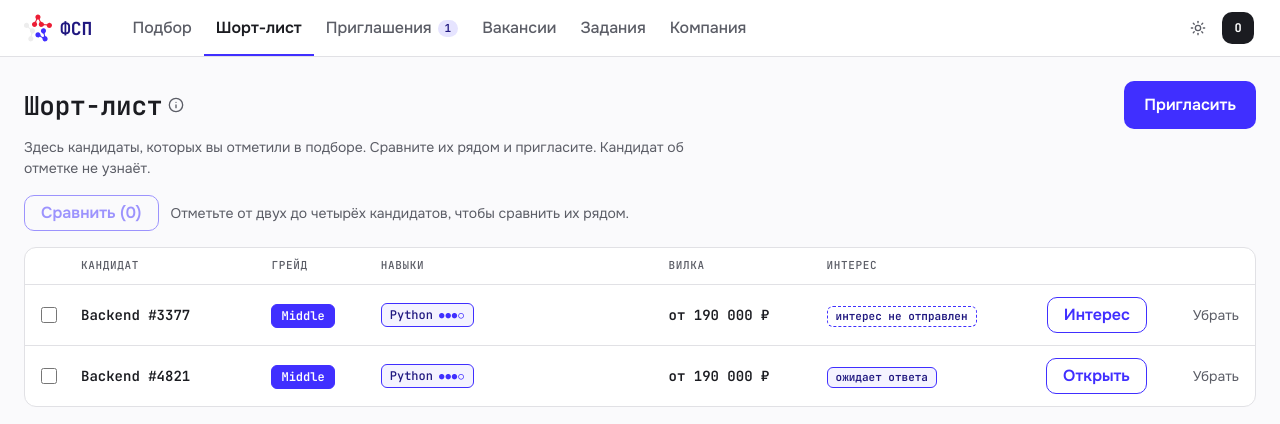
убрать кандидата из шорт-листа
Click the button "Убрать" in the row of "Backend #3377" at (1216, 315), box top-left (1193, 304), bottom-right (1239, 326)
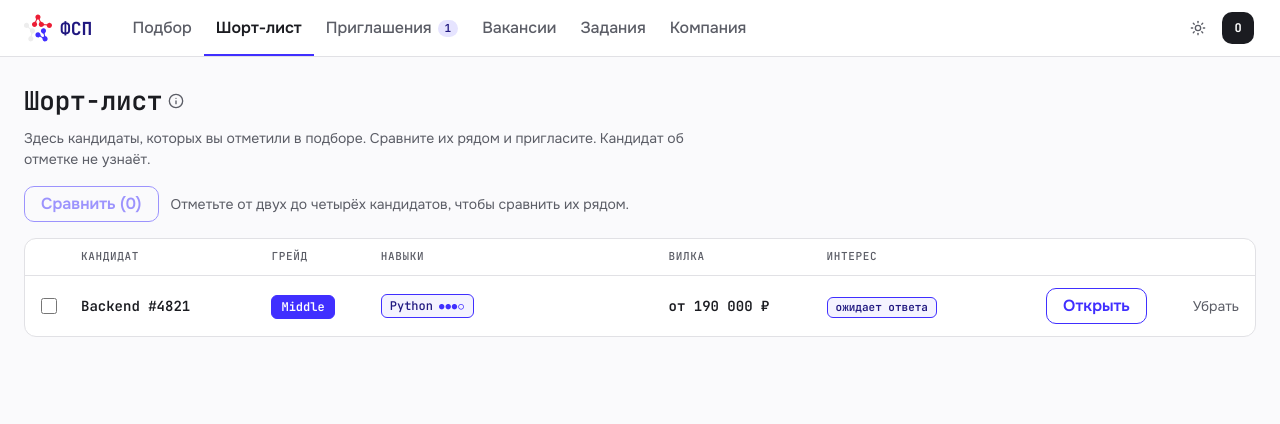
Expected: the number of list items with test id "shortlist-row" is 1, top-left (25, 275), bottom-right (1255, 336)
